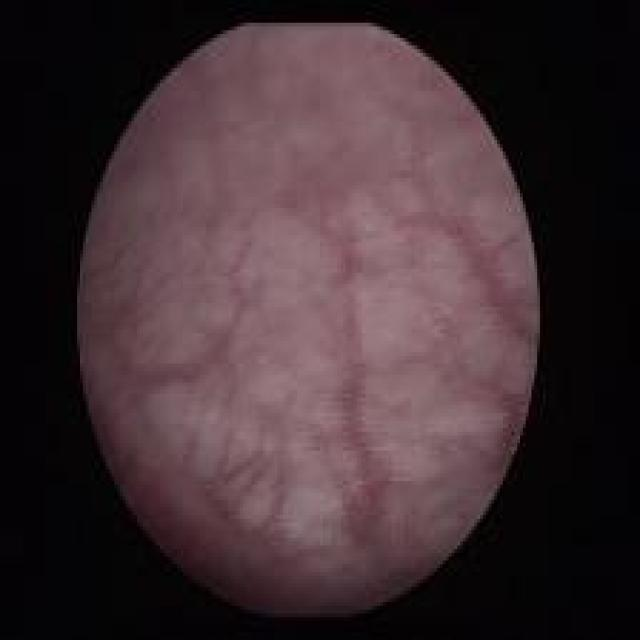blur: (77, 25, 540, 621)
